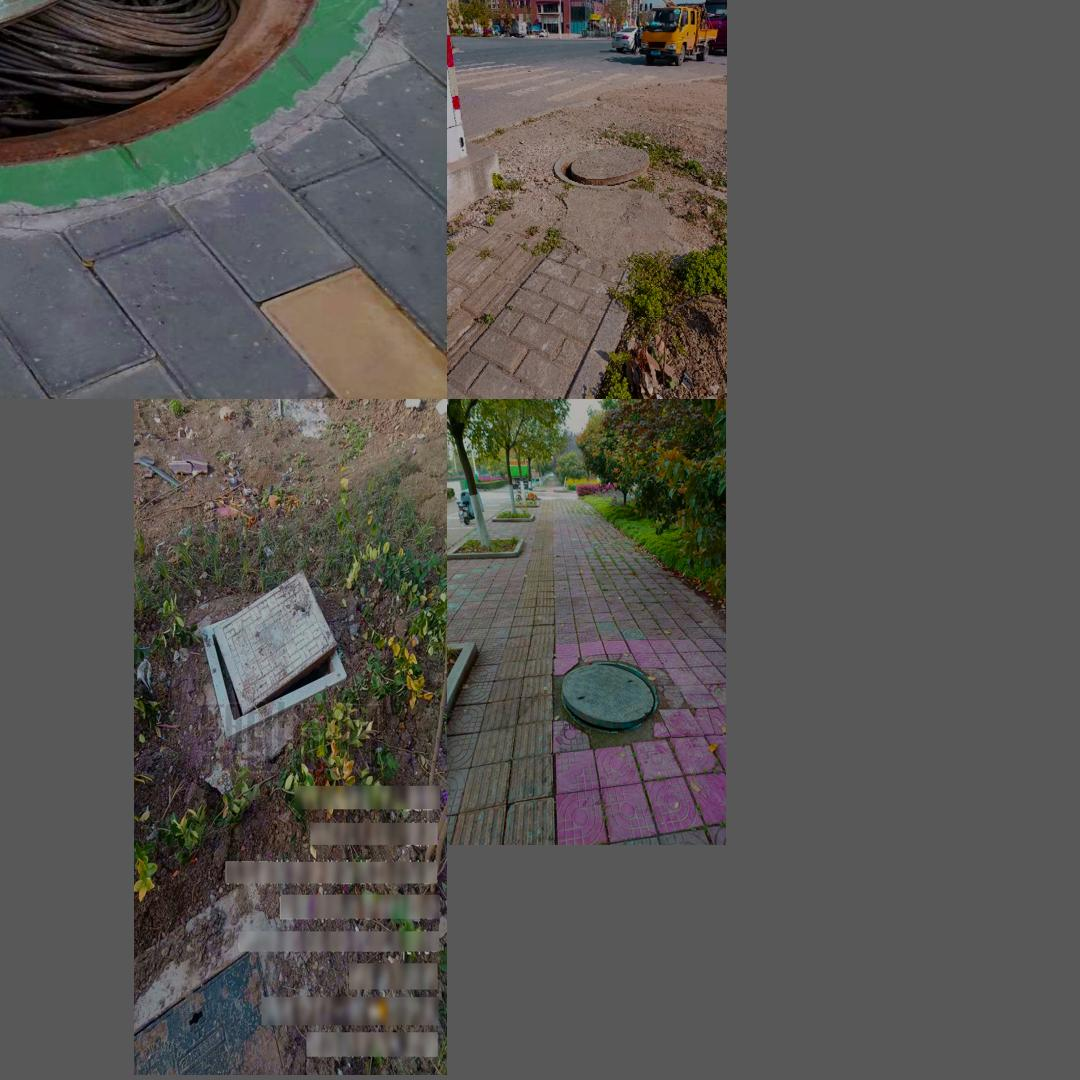uncovered: (0, 0, 387, 217), (200, 571, 348, 735), (553, 657, 676, 737), (553, 147, 650, 187)
